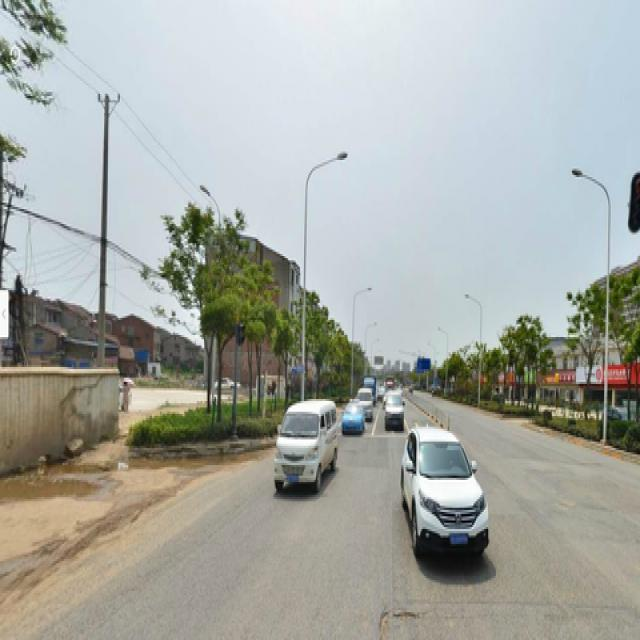koel: (191, 239, 249, 294), (578, 279, 598, 399), (512, 318, 537, 348)
